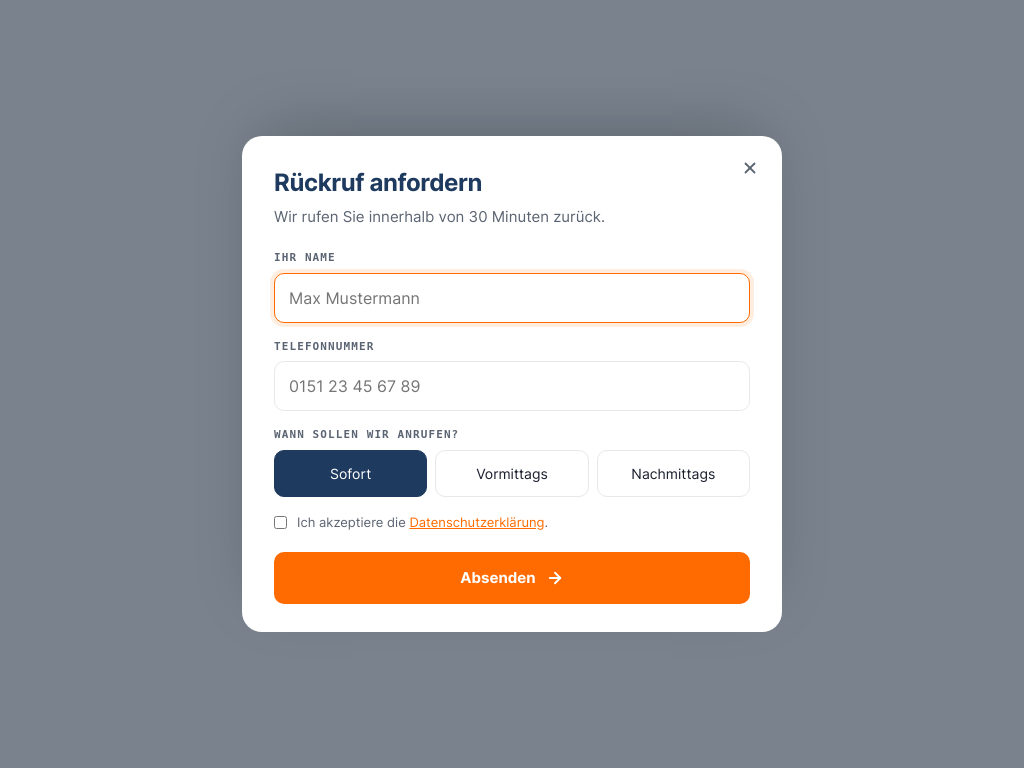
Scenario: ContactFlowSheet — callback form › blocks submission without privacy consent
Type "Erika Muster" into the field with placeholder "Max Mustermann" at (512, 298), box [274,273,750,323]
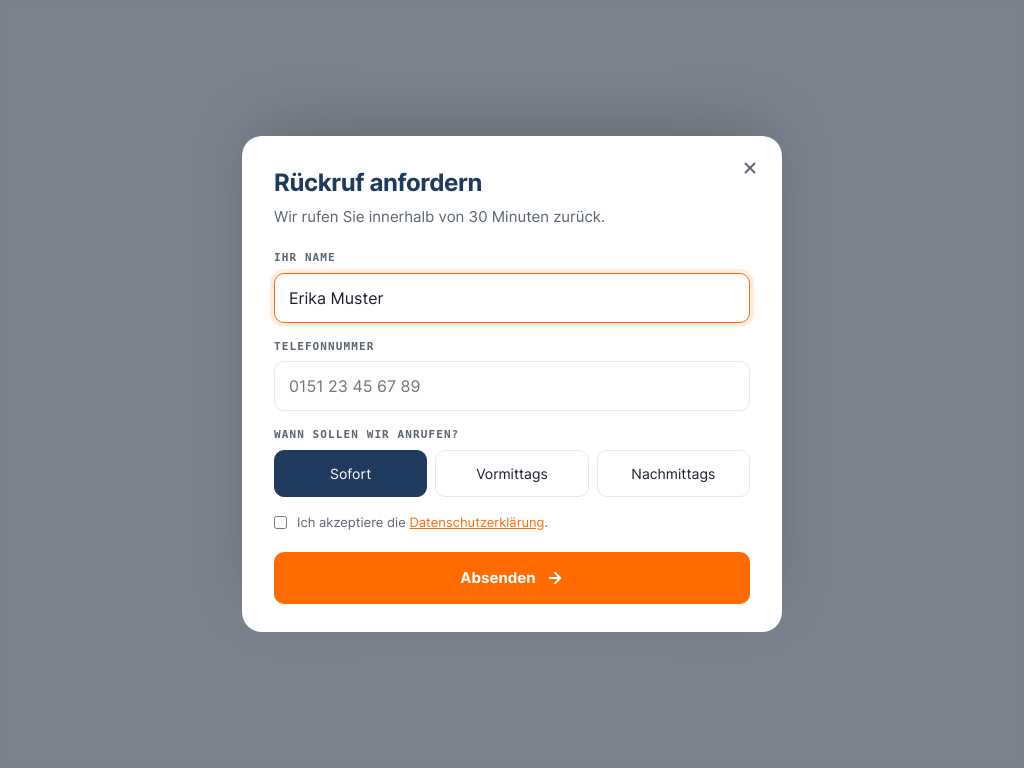
Type "0151 999" into the field with placeholder "0151 23 45 67 89" at (512, 386), box [274,361,750,411]
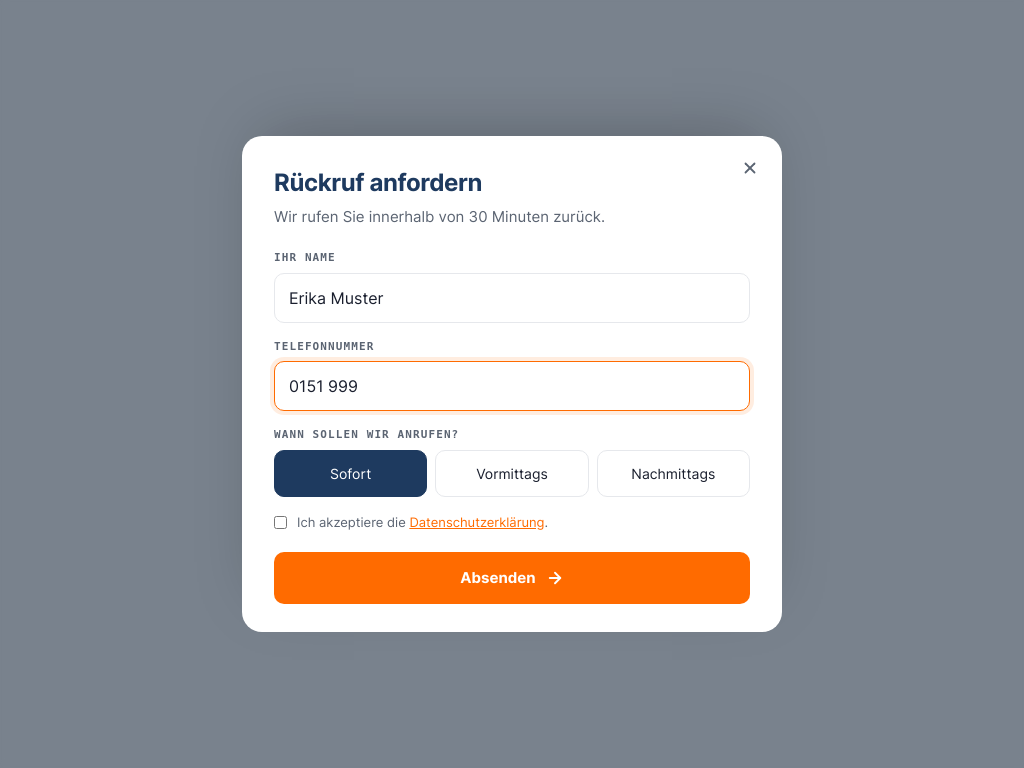
Click the button "Absenden" at (512, 578), box [274,552,750,604]
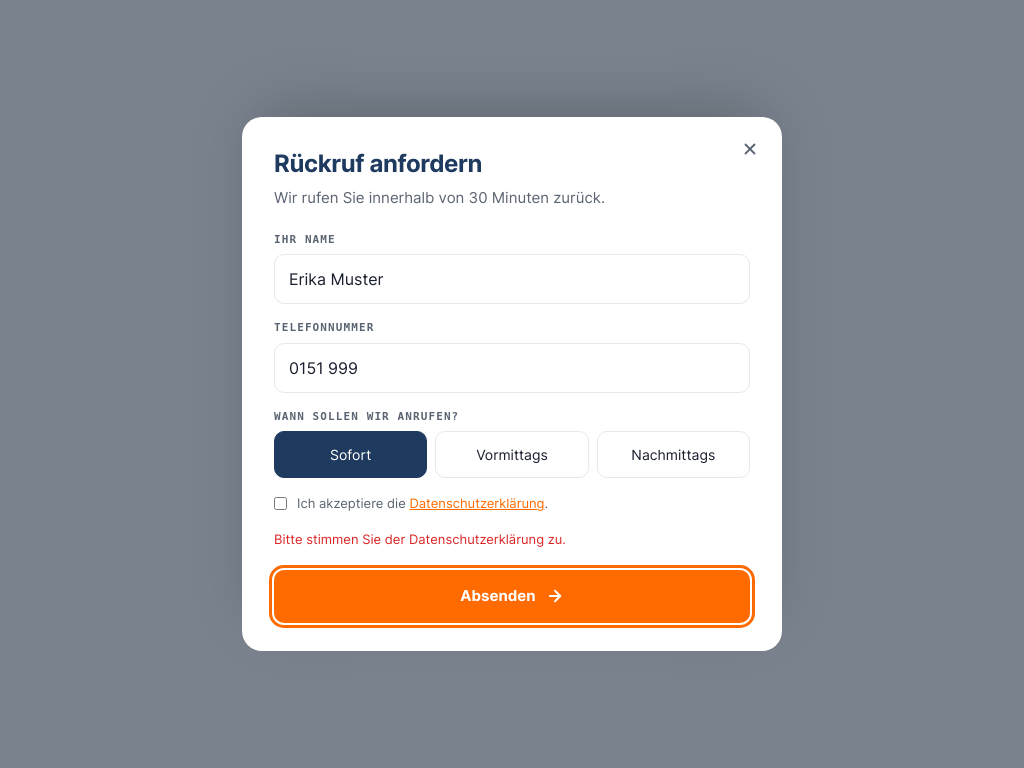
Expected: the message reads "Bitte stimmen Sie der Datenschutzerklärung zu.", [274,531,566,547]
